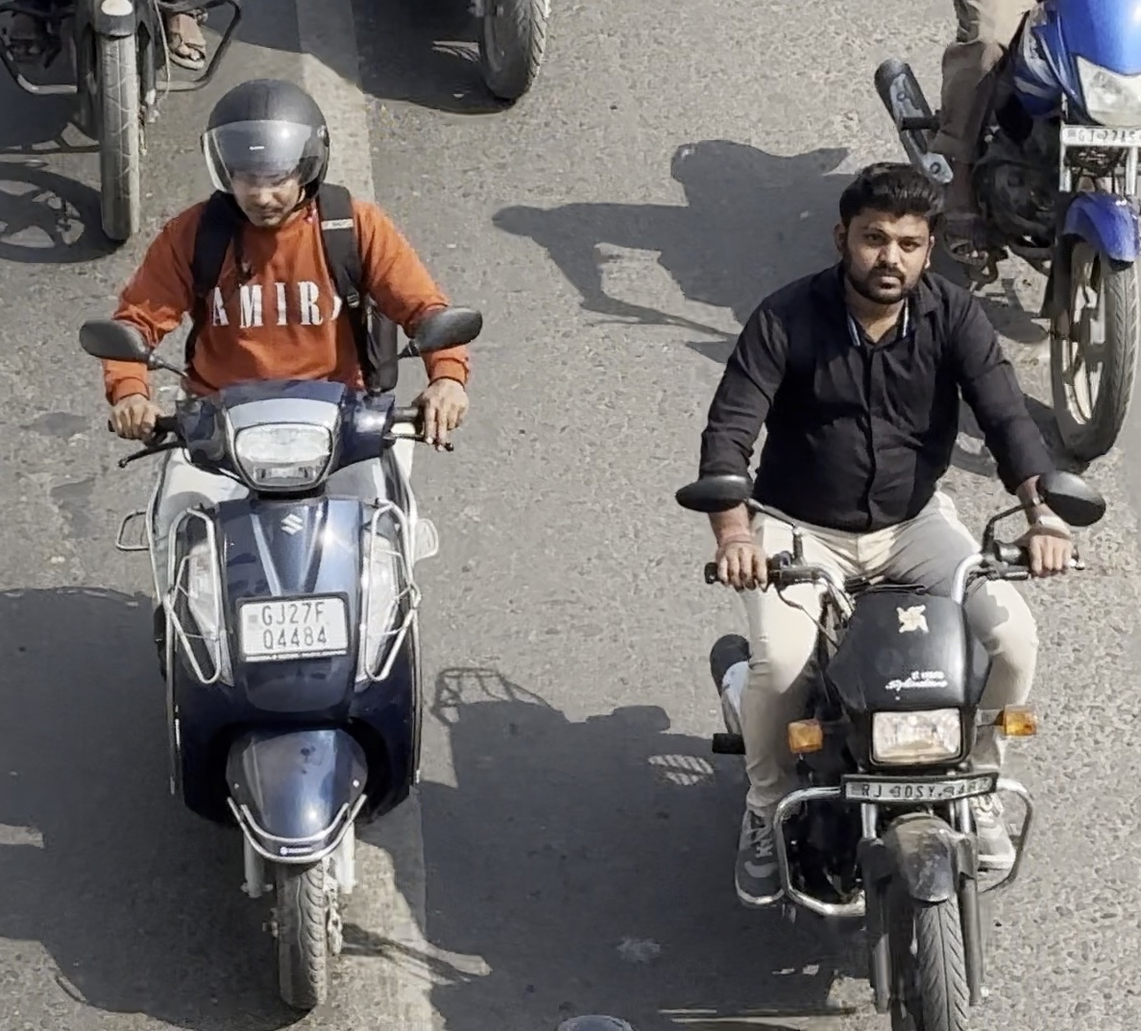BikeWithRider: (70, 68, 497, 1022), (668, 152, 1122, 1031)
Helmet: (189, 67, 341, 234), (813, 152, 953, 317)
